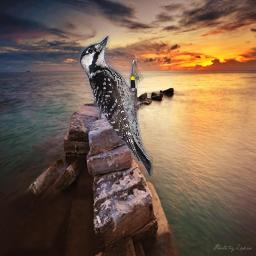Woodpecker: (79, 35, 153, 176)
